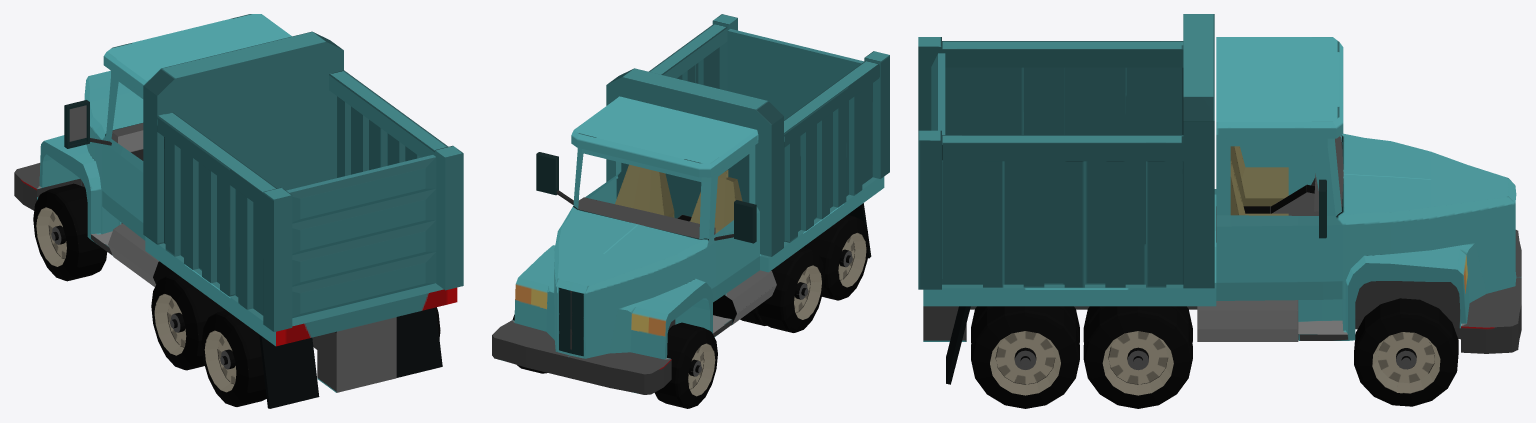
The model's file is truck.glb.
3 views of the same model, side by side, from view 1: azimuth 30°, elevation 25°; view 2: azimuth 150°, elevation 25°; view 3: azimuth 270°, elevation 25° (orthographic). The views are drawn at different scales.
Parts seen in each view (by area): view 1: Plane, Cylinder.006, Cylinder.001, Cylinder.008; view 2: Plane, Cylinder.008, Cylinder.006, Cylinder.001; view 3: Plane, Cylinder.007, Cylinder.003, Cylinder.004.
Part boxes in pixels (x1=…): Plane: x1=14, y1=14, x2=463, y2=408; Cylinder.006: x1=33, y1=183, x2=107, y2=281; Cylinder.001: x1=201, y1=310, x2=266, y2=406; Cylinder.008: x1=151, y1=273, x2=225, y2=370; Plane: x1=492, y1=14, x2=889, y2=394; Cylinder.008: x1=740, y1=247, x2=824, y2=332; Cylinder.006: x1=654, y1=322, x2=717, y2=408; Cylinder.001: x1=803, y1=215, x2=869, y2=300; Plane: x1=918, y1=14, x2=1521, y2=384; Cylinder.007: x1=1083, y1=306, x2=1192, y2=408; Cylinder.003: x1=971, y1=306, x2=1079, y2=408; Cylinder.004: x1=1354, y1=298, x2=1458, y2=406.
Bounding box in the file's own units: 4.92 × 5.15 × 9.33.
